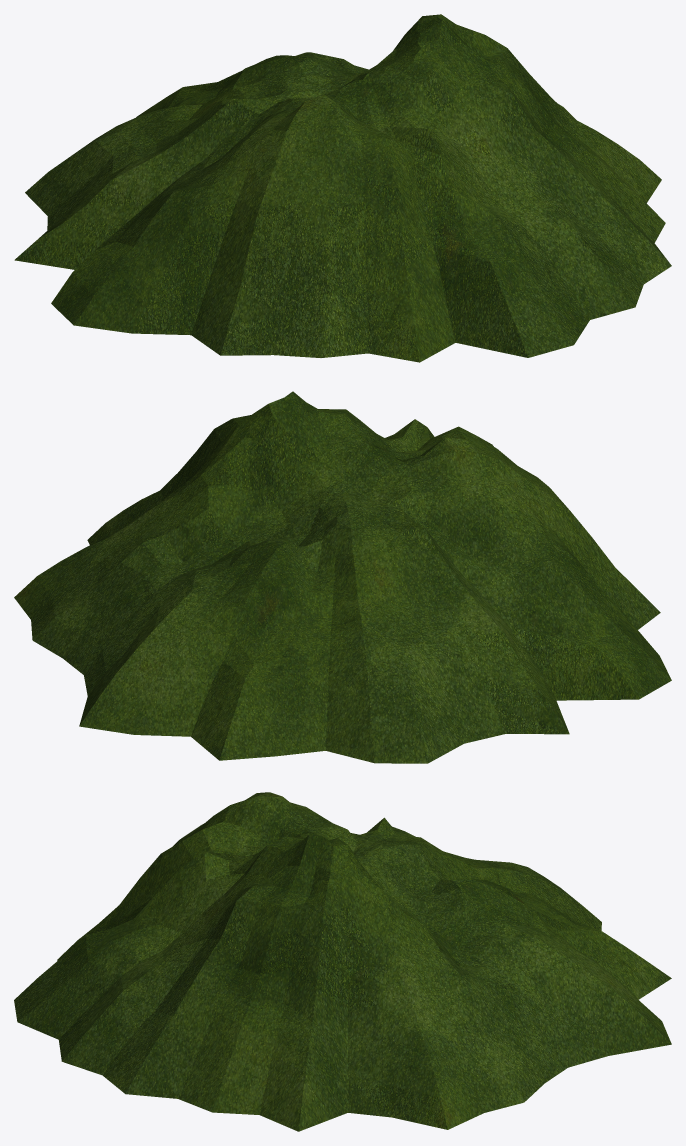
File: rock_moss_patch_v02.fbx
3 views of the same model, one above another, from view 1: azimuth 30°, elevation 25°; view 2: azimuth 150°, elevation 25°; view 3: azimuth 270°, elevation 25° (orthographic). The views are drawn at different scales.
Parts seen in each view (by area): view 1: rock_moss_patch_v02; view 2: rock_moss_patch_v02; view 3: rock_moss_patch_v02.
Boxes of the visible parts, <box> form: rock_moss_patch_v02: <box>14,14,671,362</box>; rock_moss_patch_v02: <box>14,391,671,763</box>; rock_moss_patch_v02: <box>14,792,671,1131</box>.
Bounding box in the file's own units: 65.35 × 21.91 × 66.13.
Materials: 1 (1 with a texture image).
